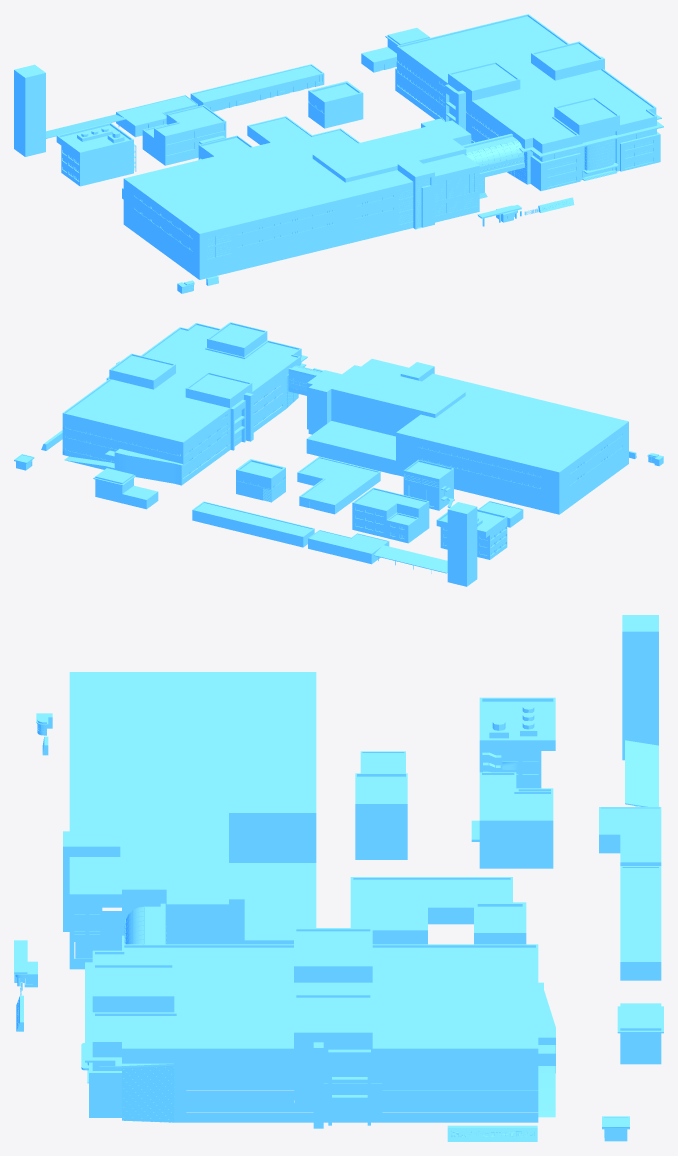
Rendered from building.FBX.
3 views of the same model, one above another, from view 1: azimuth 30°, elevation 25°; view 2: azimuth 150°, elevation 25°; view 3: azimuth 270°, elevation 25° (orthographic). The views are drawn at different scales.
Parts seen in each view (by area): view 1: Text001, Text003; view 2: Text001; view 3: Text001, Text003.
Boxes of the visible parts, x1,y1,x2,y2 form: Text001: [14, 14, 663, 293]; Text003: [477, 204, 521, 226]; Text001: [41, 322, 663, 586]; Text001: [16, 615, 663, 1141]; Text003: [14, 940, 37, 987].
Size of the model in its own units: 242846 by 35131 by 160037.
